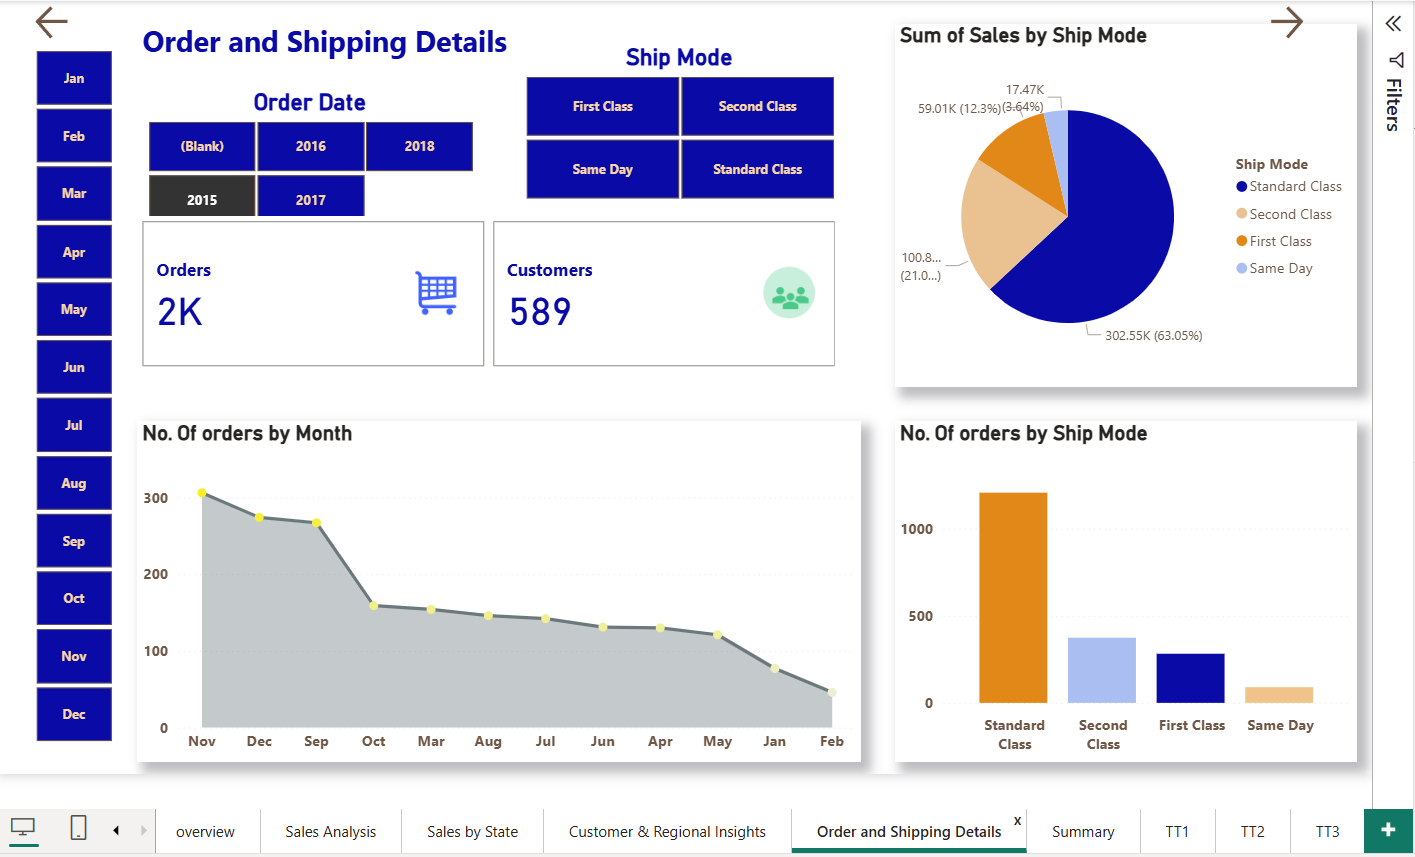

The dashboard page shown, as its layout file describes it:
{"tool":"powerbi","page":{"name":"Order and Shipping Details","canvas":[1280,720],"ordinal":4},"visuals":[{"type":"clusteredColumnChart","title":"No. Of orders by Ship Mode","fields":{"Y":["DAX measures.# Of orders"],"Category":["Sales_Fact.Ship Mode"]},"box":[836,390.2,430.1,317.4],"z":0},{"type":"lineChart","title":"No. Of orders by Month","fields":{"Y":["DAX measures.# Of orders"],"Category":["Calendar.Month"]},"box":[131.8,390.2,673,317.4],"z":1000},{"type":"pieChart","fields":{"Y":["Sum(Sales_Fact.Sales)"],"Category":["Sales_Fact.Ship Mode"]},"box":[836,20.8,430.1,338.2],"z":2000},{"type":"slicer","title":"Ship Mode","fields":{"Values":["Sales_Fact.Ship Mode"]},"box":[467.9,39.8,336.2,150.9],"z":3000},{"type":"slicer","title":"Order Date","fields":{"Values":["Calendar.Year"]},"box":[116.6,81,351.3,133.1],"z":4000},{"type":"actionButton","box":[32,0,100.8,40],"z":5000},{"type":"actionButton","box":[1180.3,0,99.2,40],"z":6000},{"type":"slicer","fields":{"Values":["Calendar.Month"]},"box":[12.1,39.9,119.7,655.6],"z":7000},{"type":"textbox","box":[131.8,13.9,386.8,83.3],"z":8000},{"type":"cardVisual","fields":{"Data":["DAX measures.Orders","DAX measures.Customers"]},"box":[131.7,200.3,654.5,145.5],"z":9000}]}

Visuals, with their boxes on the page's 1280x720 design canvas (x1, y1, x2, y2). These are canvas units, not pixel positions in the 1415x857 screenshot, which may show the page scaled, cropped or inside an application window:
"No. Of orders by Ship Mode" clusteredColumnChart: bbox(836, 390, 1266, 708)
"No. Of orders by Month" lineChart: bbox(132, 390, 805, 708)
pieChart - Sum(Sales_Fact.Sales) x Sales_Fact.Ship Mode: bbox(836, 21, 1266, 359)
"Ship Mode" slicer: bbox(468, 40, 804, 191)
"Order Date" slicer: bbox(117, 81, 468, 214)
actionButton: bbox(32, 0, 133, 40)
actionButton: bbox(1180, 0, 1280, 40)
slicer - Calendar.Month: bbox(12, 40, 132, 696)
textbox: bbox(132, 14, 519, 97)
cardVisual - DAX measures.Orders x DAX measures.Customers: bbox(132, 200, 786, 346)
